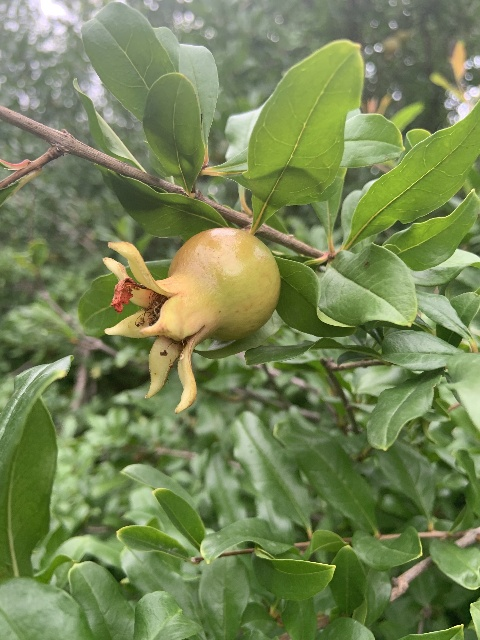early-fruit: (101, 227, 280, 413)
